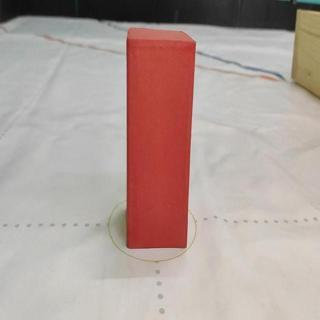redbox: (124, 26, 197, 249)
